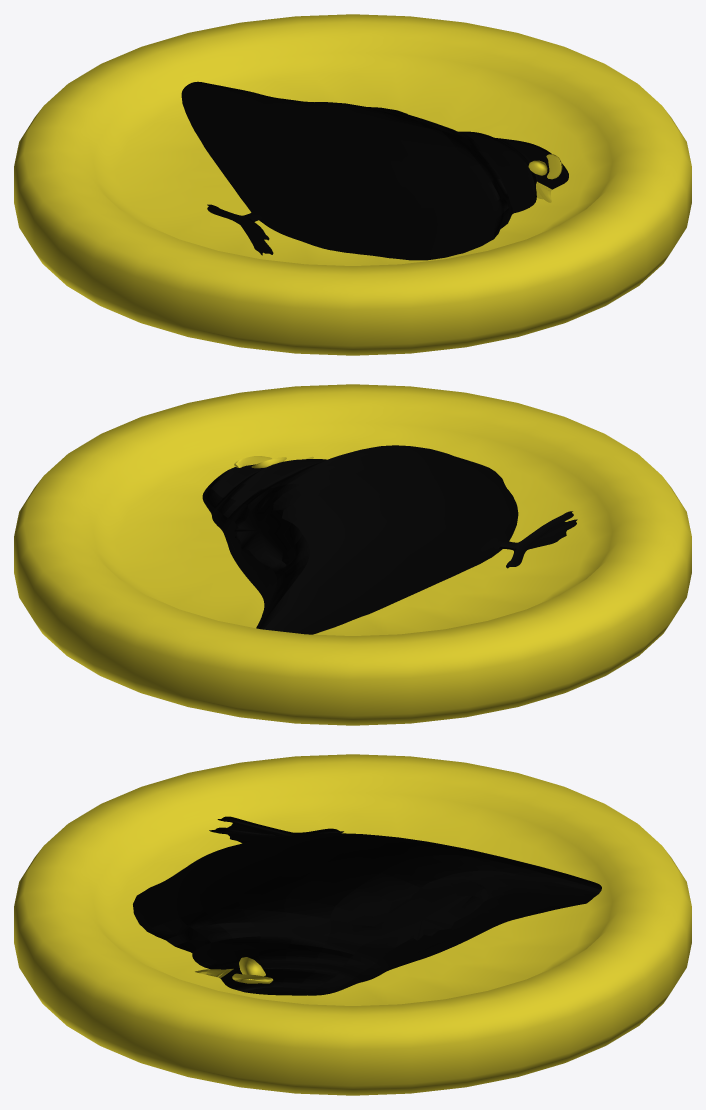
File: doubloonModel.fbx
The picture shows the model from 3 angles, top to bottom: view 1: azimuth 30°, elevation 25°; view 2: azimuth 150°, elevation 25°; view 3: azimuth 270°, elevation 25°; orthographic projection.
Visible parts, largest first — view 1: EyeL; view 2: EyeL; view 3: EyeL.
Boxes of the visible parts, x1,y1,x2,y2 form: EyeL: (14, 14, 691, 355); EyeL: (14, 384, 691, 725); EyeL: (14, 754, 691, 1095).
Bounding box in the file's own units: 109 × 20.52 × 109.
